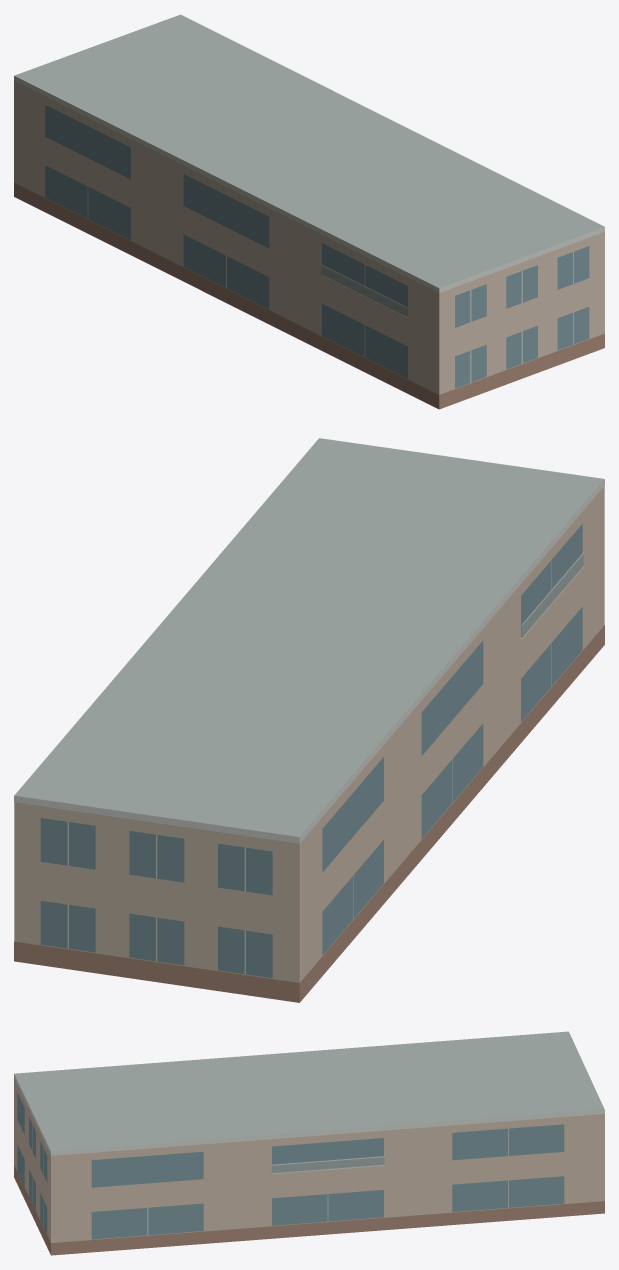
Rendered from survey-upis-32811590.glb.
3 renders of one model, top to bottom at view 1: azimuth 30°, elevation 25°; view 2: azimuth 150°, elevation 25°; view 3: azimuth 270°, elevation 25°, orthographic. The views are drawn at different scales.
Parts seen in each view (by area): view 1: survey-upis-32811590.tmp; view 2: survey-upis-32811590.tmp; view 3: survey-upis-32811590.tmp.
Boxes of the visible parts, x1,y1,x2,y2 form: survey-upis-32811590.tmp: [14, 14, 604, 409]; survey-upis-32811590.tmp: [14, 438, 604, 1002]; survey-upis-32811590.tmp: [14, 1031, 604, 1255].
Size of the model in its own units: 15.2 by 6.1 by 31.52.
